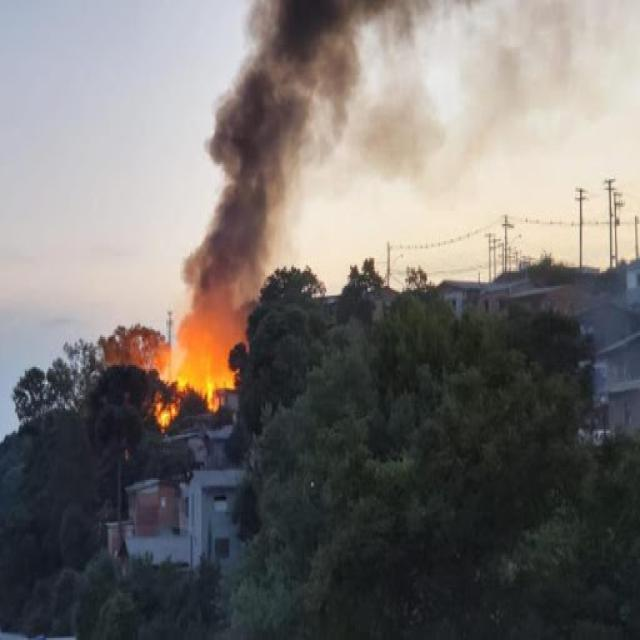Fire: (150, 342, 235, 412), (149, 396, 179, 426)
Smoke: (176, 8, 565, 336)
